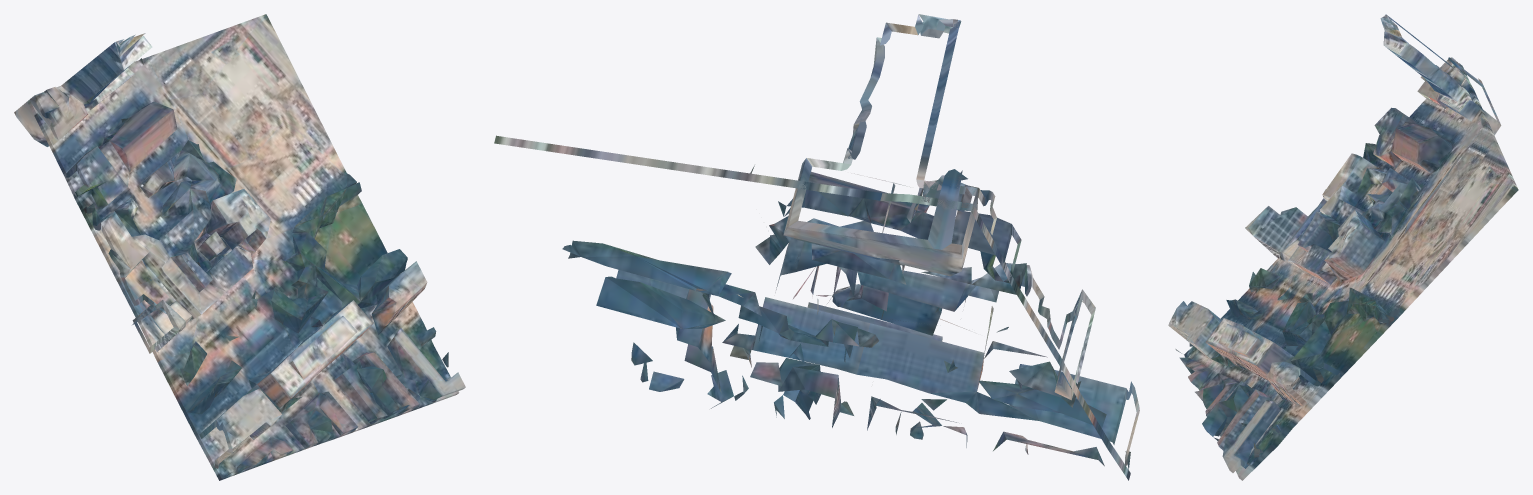
The model's file is AJVsH2zEjm1sTjggqFnhaW5dO8ZUd4GdGb1UTUsNUeMtU2XDM1lJBl342TgvFa1Y7bs80arAa6PXSAPneEM3YRiVjHBWa3zjcT_j53NcLY4KXtnkt15cOucRLXyWDoDEzGO8lPTou3LInkH7jjY3rvo0ZmXzFhipyQ.glb.
3 views of the same model, side by side, from view 1: azimuth 30°, elevation 25°; view 2: azimuth 150°, elevation 25°; view 3: azimuth 270°, elevation 25° (orthographic). The views are drawn at different scales.
Bounding box in the file's own units: 261 × 283 × 262.
Materials: 2 (2 with a texture image).
